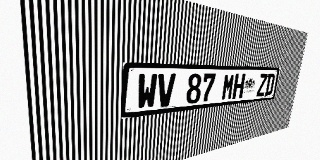7: (200, 74, 216, 103)
8: (186, 74, 203, 104)
D: (264, 74, 275, 96)
H: (232, 74, 245, 99)
M: (221, 74, 235, 100)
V: (156, 74, 176, 108)
W: (136, 74, 158, 110)
Z: (256, 74, 268, 97)
